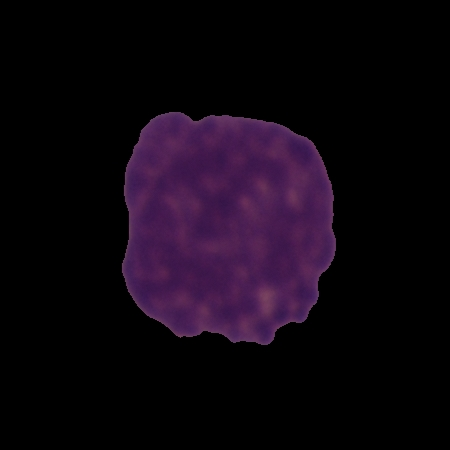HEM: (119, 108, 339, 348)
